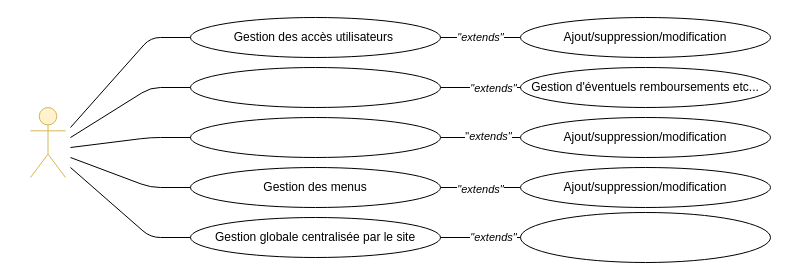
Some shapes in this 788 by 280 pixel diagram are drawn without their labels. The shapes that lost their labels are listed below. From the top down, each one's centre as x and y in pixels, then its label:
the point at 315,87: Gestion des commandes
the point at 48,142: MANAGER
the point at 315,137: Gestion des stocks
the point at 645,237: Vue d'ensemble et en temps réel du groupe OC Pizza
